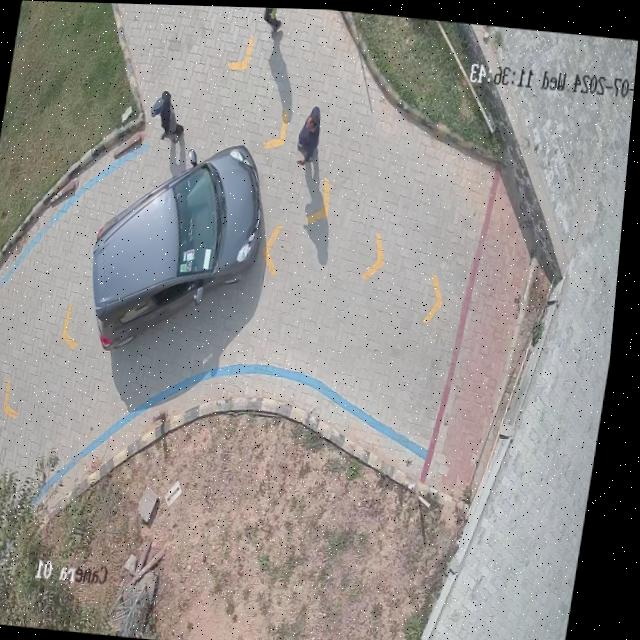car: (97, 143, 266, 350)
